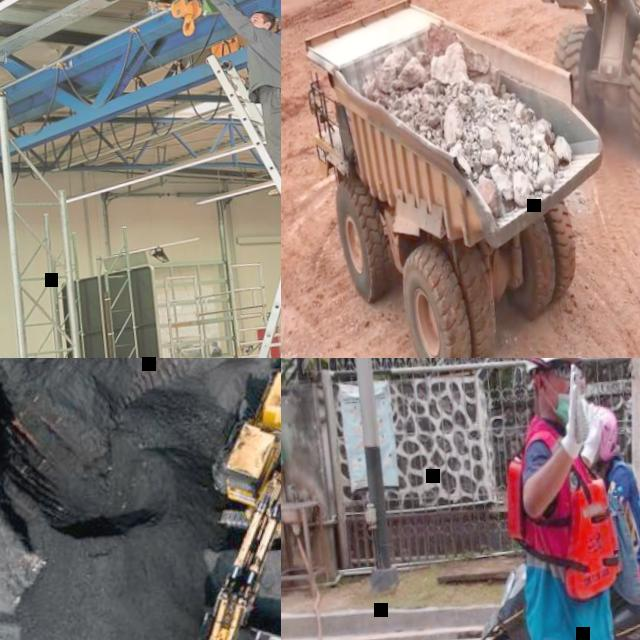Hardhat: (590, 399, 622, 459)
NO-Hardhat: (253, 9, 277, 27)
NO-Safety Vest: (602, 459, 640, 550), (243, 25, 281, 94)
Person: (485, 358, 640, 640), (198, 0, 281, 203), (593, 401, 640, 573)
Safety Vest: (500, 419, 626, 600)
vehicle: (293, 0, 630, 358), (135, 358, 281, 640), (457, 0, 640, 182)
